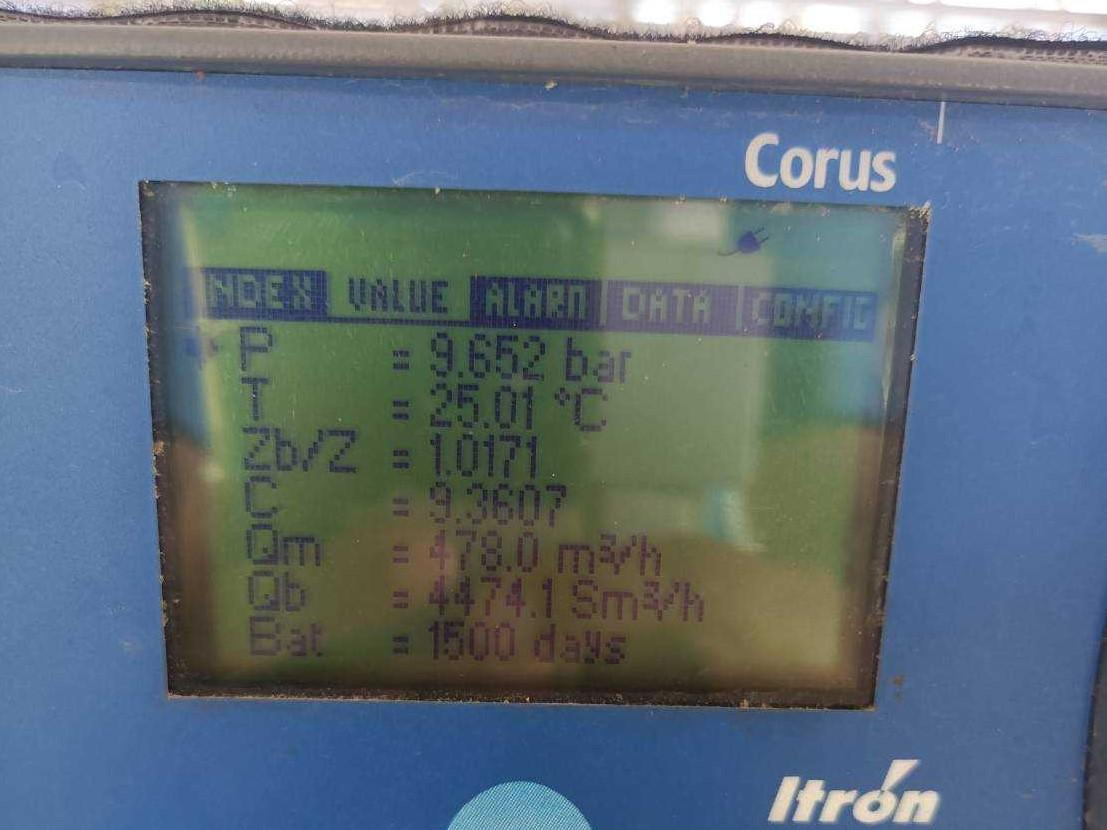digital_screen: (133, 179, 928, 706)
